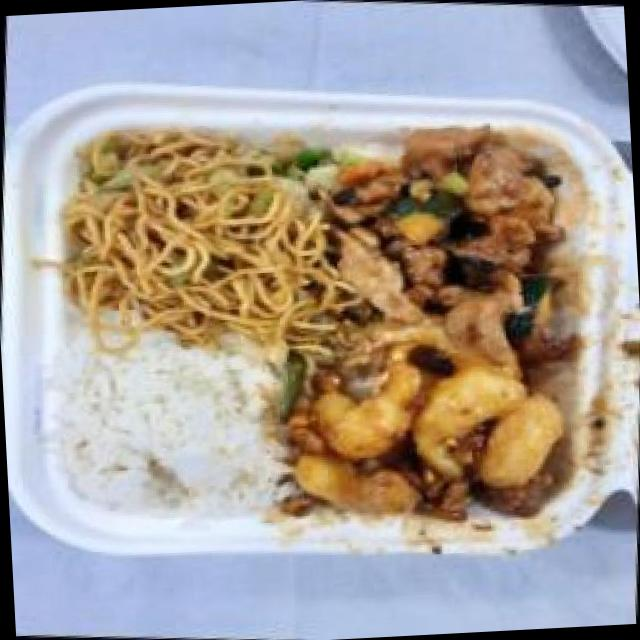Chow Mein: (37, 106, 352, 365)
Honey Walnut Shrimp: (260, 302, 579, 540)
Kung Pao Chicken: (312, 106, 592, 348)
White Steamed Rice: (27, 311, 311, 533)
